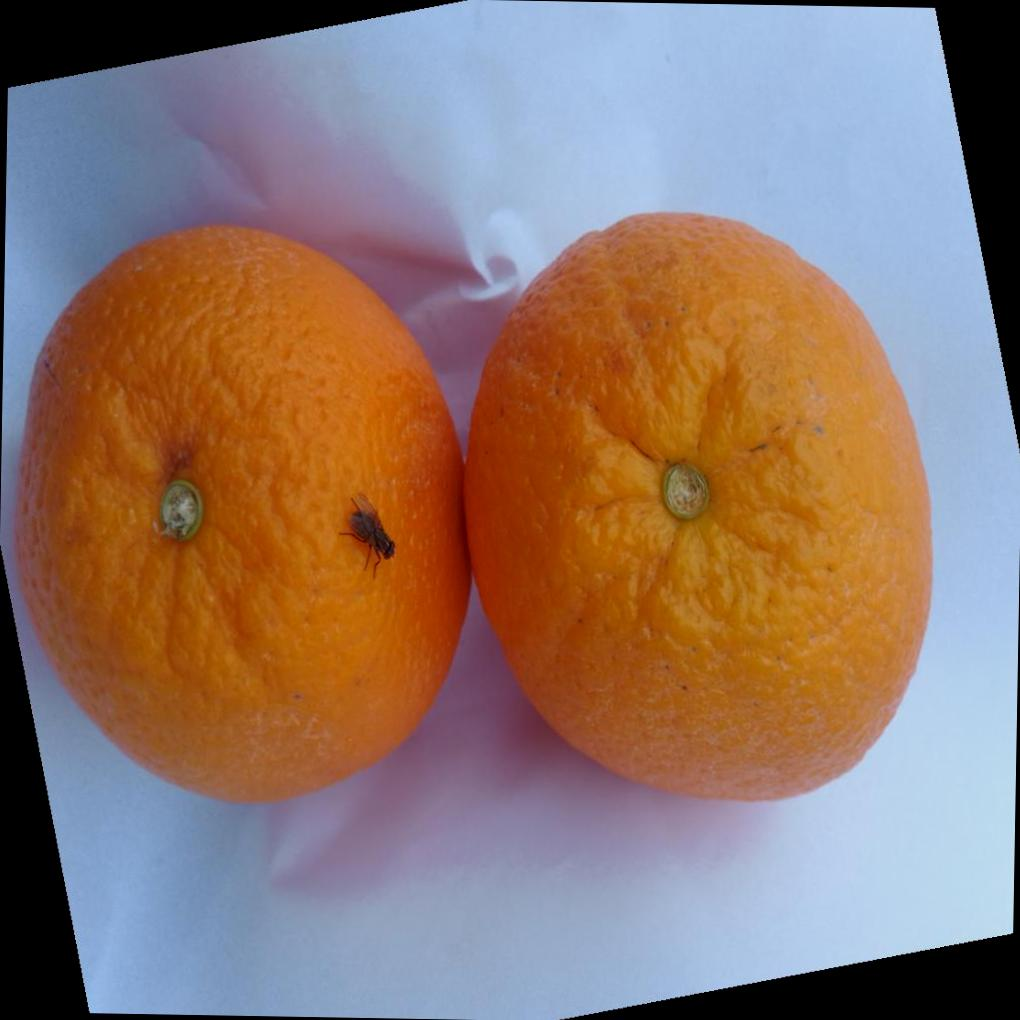FreshGuava: (3, 212, 934, 810)
